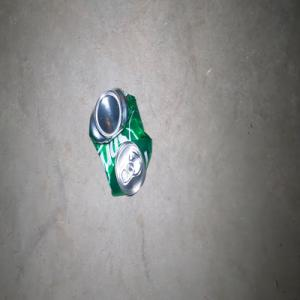SodaCan: (89, 87, 152, 196)
